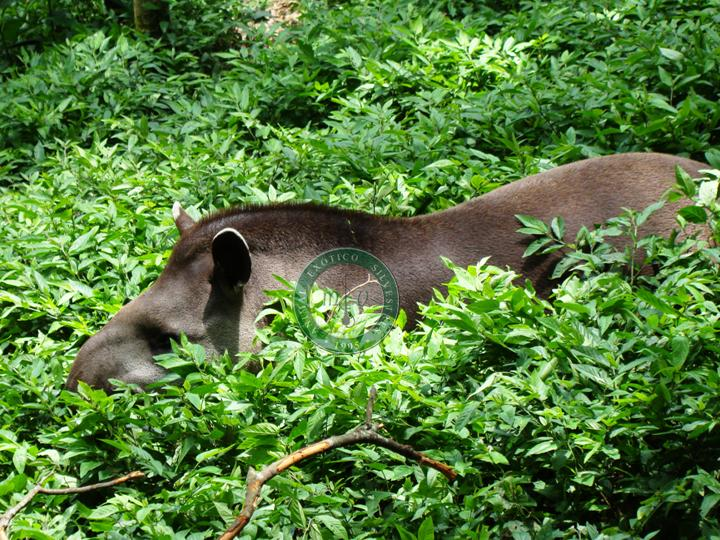Anta: (54, 146, 708, 401)
